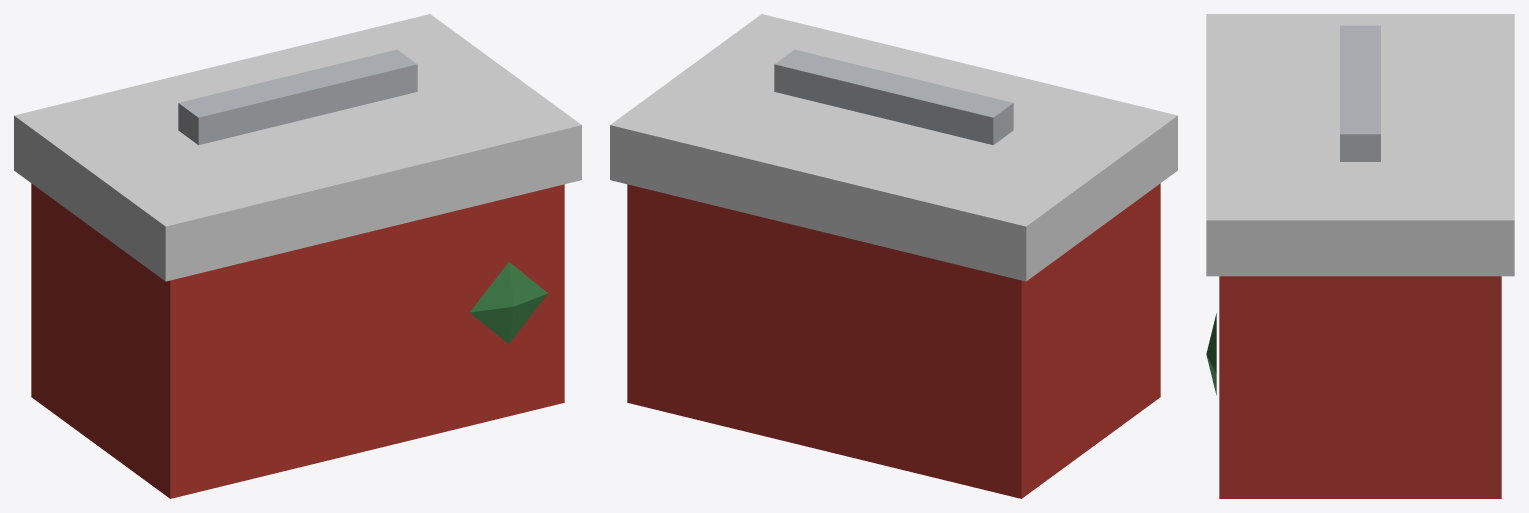
The model's file is upgrade-cooler.glb.
The picture shows the model from 3 angles, left to right: view 1: azimuth 30°, elevation 25°; view 2: azimuth 150°, elevation 25°; view 3: azimuth 270°, elevation 25°; orthographic projection.
Visible parts, largest first — view 1: upgrade-cooler; view 2: upgrade-cooler; view 3: upgrade-cooler.
Part boxes in pixels (x1,y1,x2,y2): upgrade-cooler: (14, 14, 581, 498); upgrade-cooler: (610, 14, 1177, 498); upgrade-cooler: (1206, 14, 1514, 498).
Bounding box in the file's own units: 0.95 × 0.69 × 0.6.
